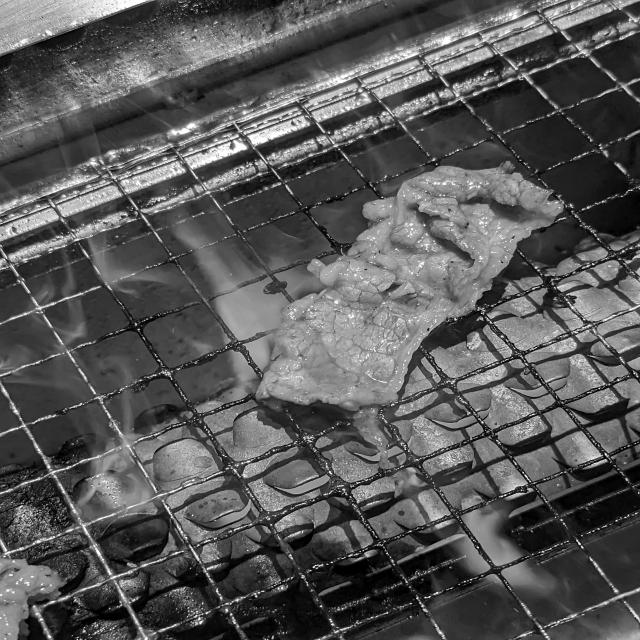OK cooked beef,: (244, 154, 582, 414)
